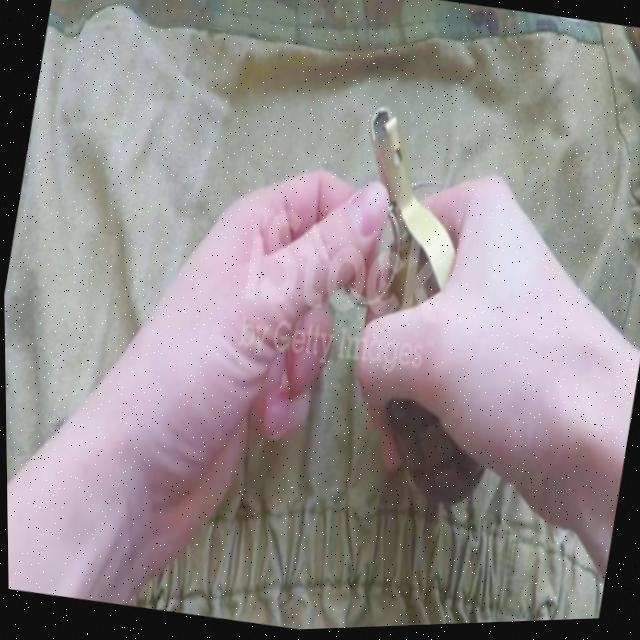grenade: (312, 93, 550, 514)
